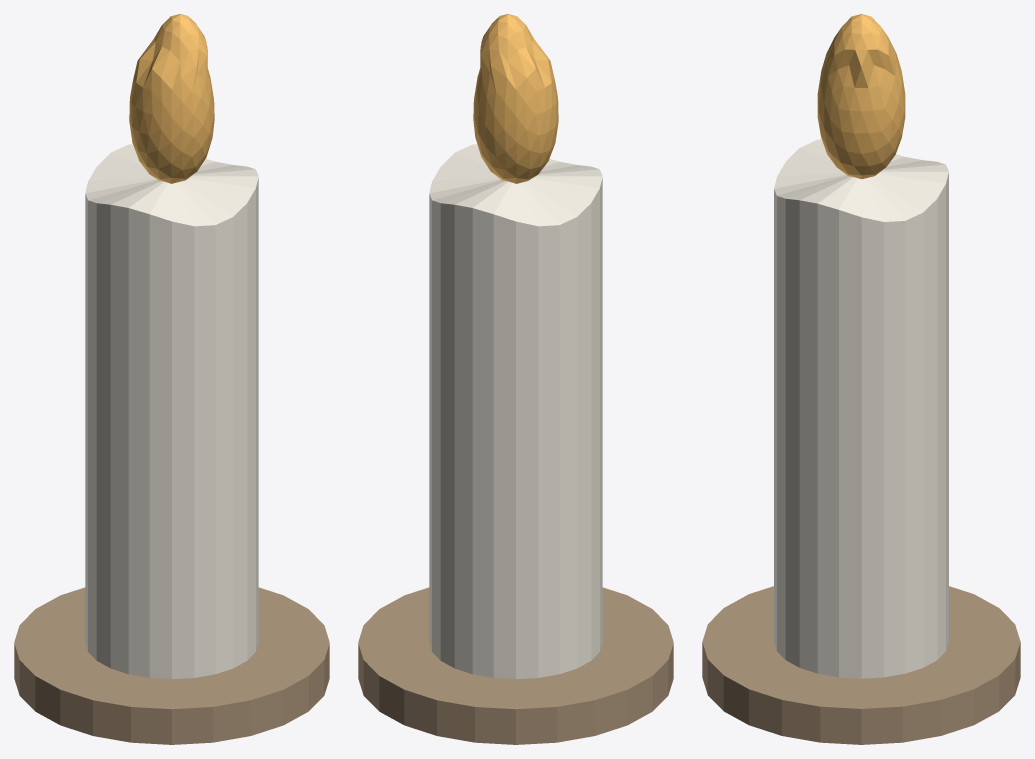
Rendered from temp_candle_fixed.glb.
3 views of the same model, side by side, from view 1: azimuth 30°, elevation 25°; view 2: azimuth 150°, elevation 25°; view 3: azimuth 270°, elevation 25° (orthographic).
Visible parts, largest first — view 1: CandleBody, Base, OuterFlame; view 2: CandleBody, Base, OuterFlame; view 3: CandleBody, Base, OuterFlame.
Boxes of the visible parts, bbox=[...] form: CandleBody: bbox=[85, 144, 258, 679]; Base: bbox=[14, 587, 329, 744]; OuterFlame: bbox=[129, 14, 214, 183]; CandleBody: bbox=[429, 144, 602, 679]; Base: bbox=[358, 587, 673, 744]; OuterFlame: bbox=[473, 14, 558, 183]; CandleBody: bbox=[774, 139, 948, 678]; Base: bbox=[702, 586, 1020, 744]; OuterFlame: bbox=[817, 14, 905, 179].
Size of the model in its own units: 0.2 by 0.4626 by 0.2.
